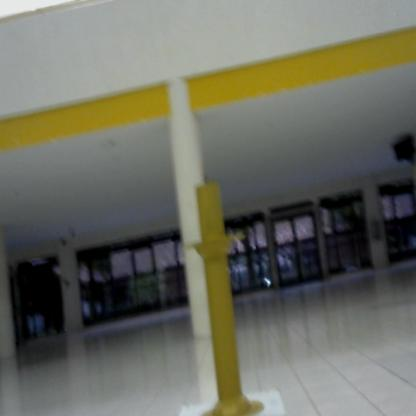pole: (176, 166, 271, 416)
